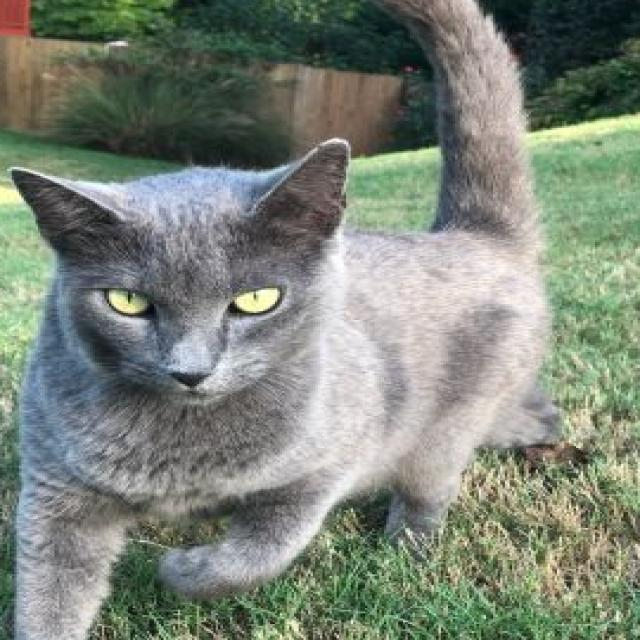Russian Blue: (5, 0, 564, 640)
